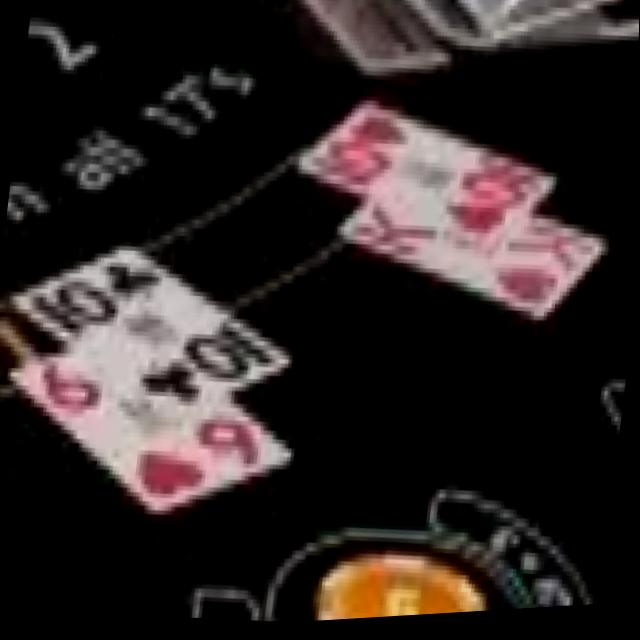Card-10: (13, 244, 293, 429), (298, 103, 558, 254)
Card-6: (10, 353, 294, 517)
Card-K: (339, 201, 608, 328)
